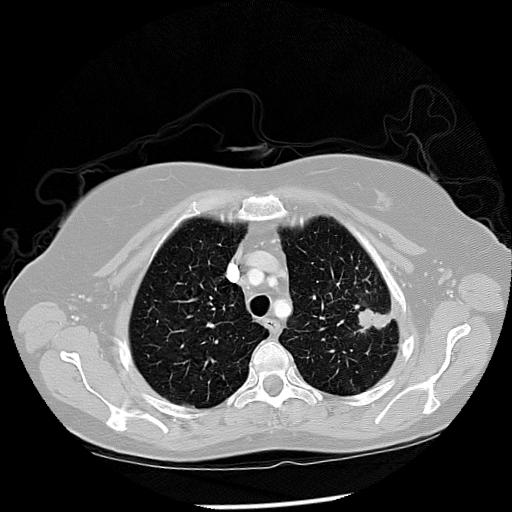nodule: (360, 303, 394, 337)
